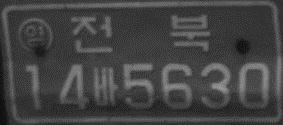0: (237, 61, 270, 111)
1: (21, 63, 50, 111)
3: (200, 62, 231, 111)
4: (59, 63, 88, 110)
5: (122, 62, 155, 111)
6: (160, 62, 193, 109)
바: (92, 66, 117, 108)
영: (17, 17, 52, 54)
전북_D: (69, 14, 211, 53)
